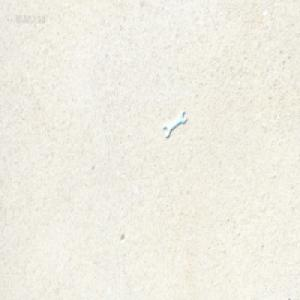Wrench: (163, 109, 185, 137)
